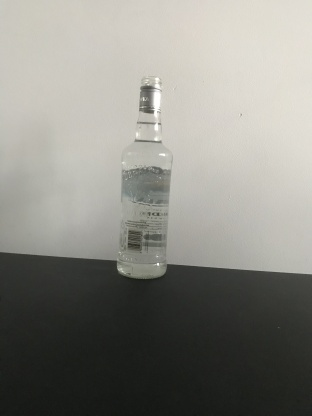nakretka: (137, 74, 163, 115)
